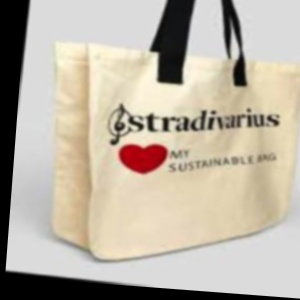stradivarius: (52, 61, 300, 192)
